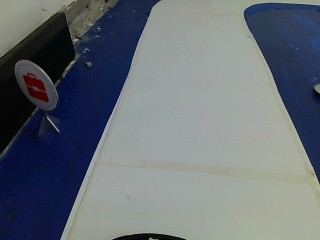company: (12, 57, 58, 111)
